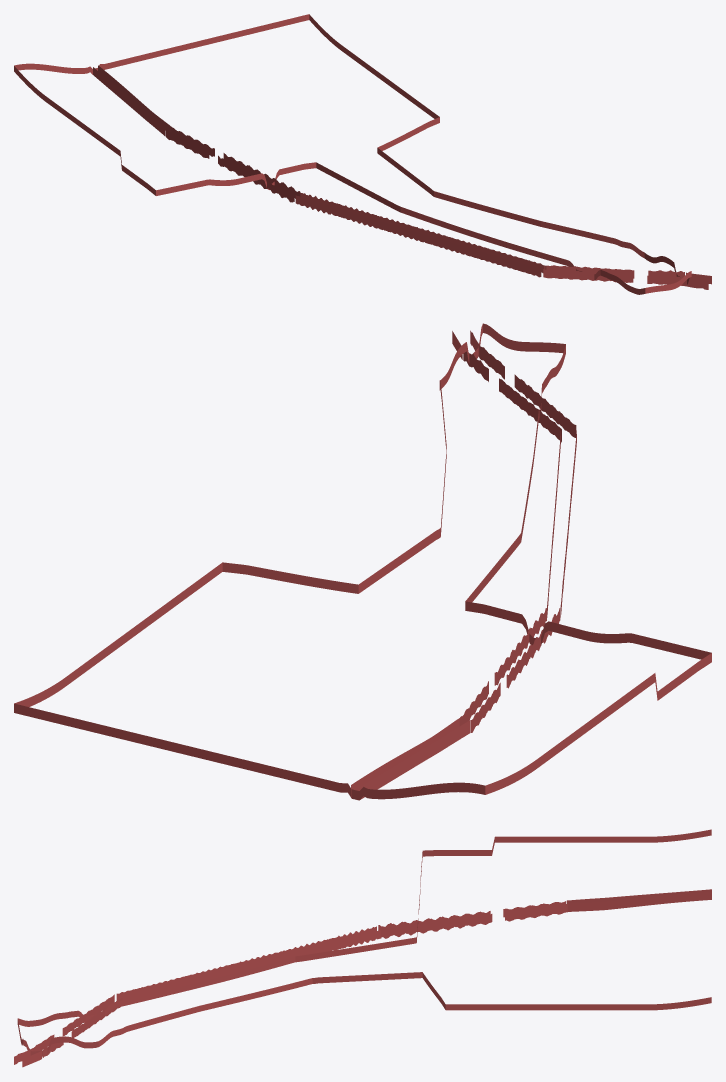
File: ranch_safety.glb
3 views of the same model, one above another, from view 1: azimuth 30°, elevation 25°; view 2: azimuth 150°, elevation 25°; view 3: azimuth 270°, elevation 25° (orthographic). The views are drawn at different scales.
Bounding box in the file's own units: 146 × 23.19 × 241.
